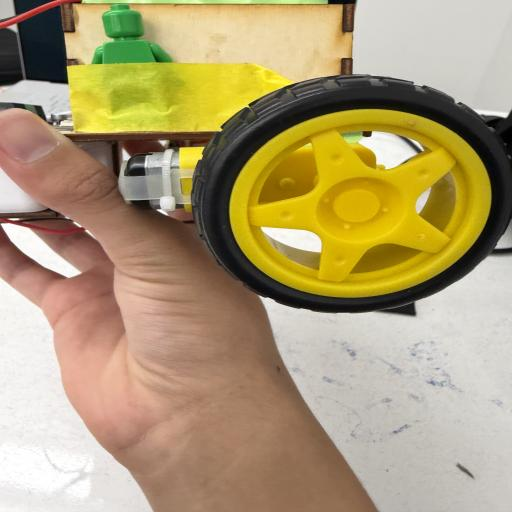Green-Lego: (91, 0, 172, 64)
